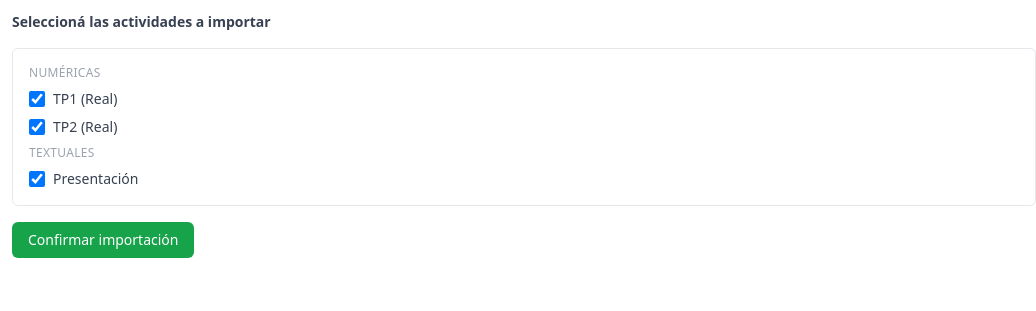
Test: ActividadesSelector › shows validation error when all activities are unchecked and user confirms
Click the checkbox labelled "TP1 (Real)": x=37, y=99 left=29, top=91, right=45, bottom=107
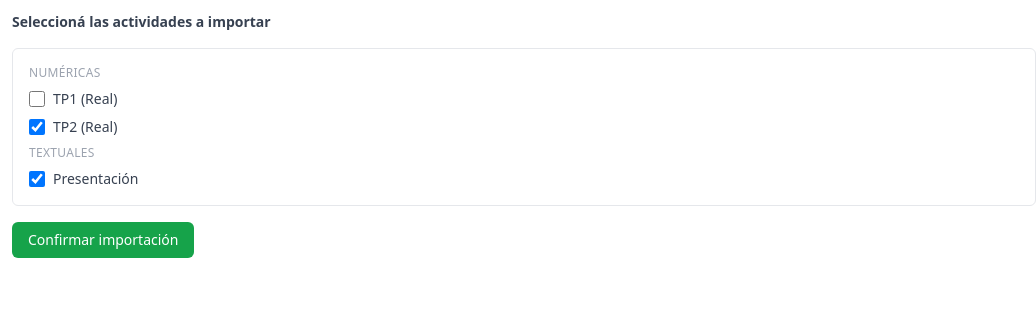
Click the checkbox labelled "TP2 (Real)": x=37, y=127 left=29, top=119, right=45, bottom=135
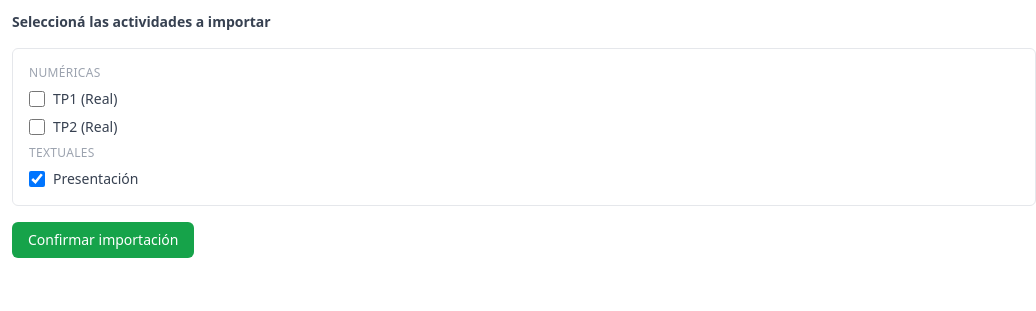
Click the checkbox labelled "Presentación": x=37, y=179 left=29, top=171, right=45, bottom=187
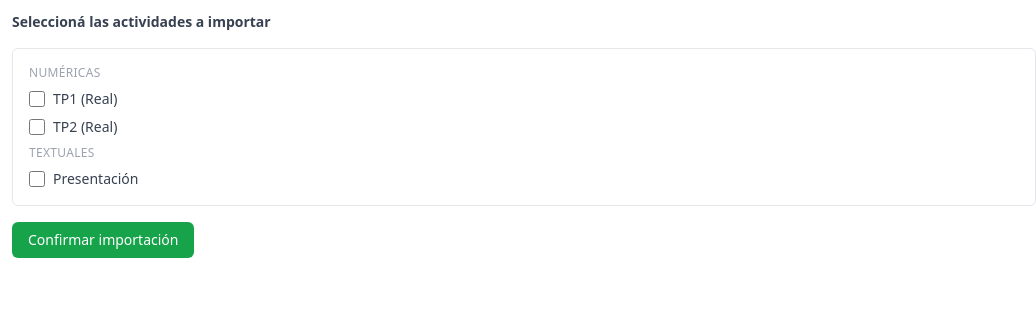
Click the button "Confirmar importación": x=103, y=240 left=12, top=222, right=194, bottom=258
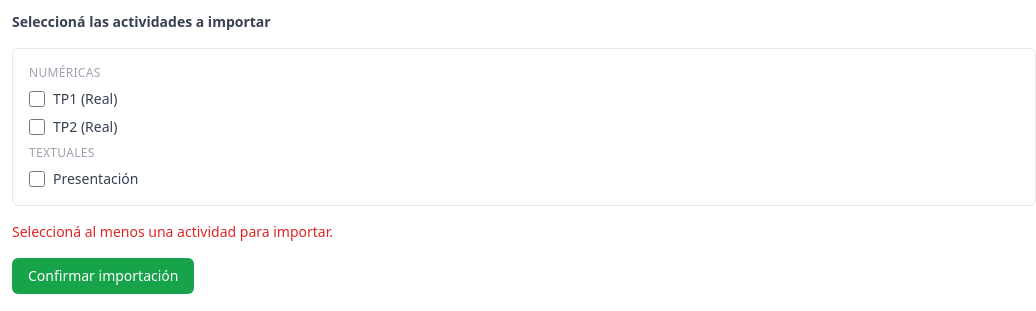
Check: the message shows "al menos una", box left=12, top=222, right=333, bottom=241
